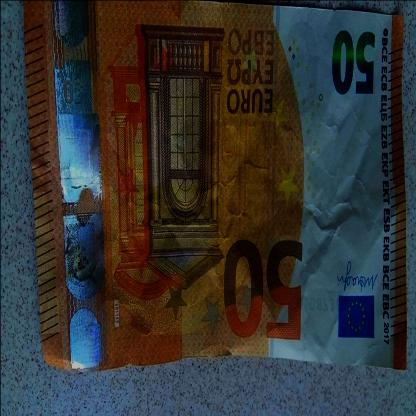euro_banknote: (23, 1, 406, 372)
